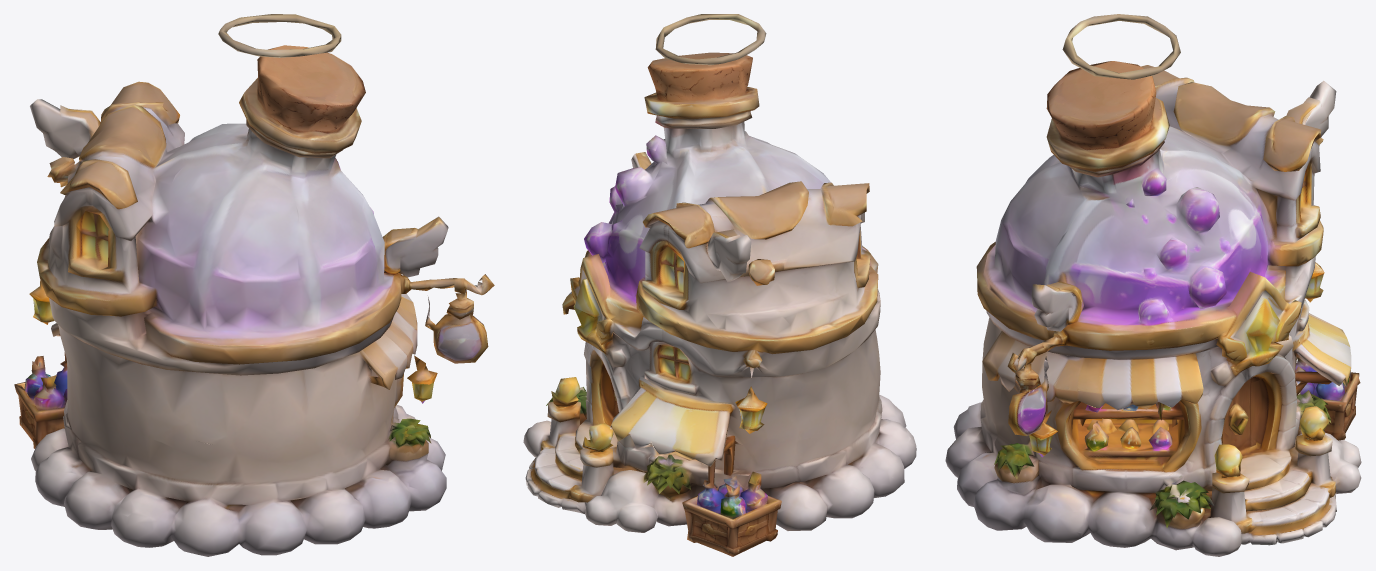
Rendered from Town_Halo_Potion_raw.glb.
3 views of the same model, side by side, from view 1: azimuth 30°, elevation 25°; view 2: azimuth 150°, elevation 25°; view 3: azimuth 270°, elevation 25° (orthographic). The views are drawn at different scales.
Parts seen in each view (by area): view 1: tripo_node_11b9954e-97f3-4d30-9355-dff0144e8e3f; view 2: tripo_node_11b9954e-97f3-4d30-9355-dff0144e8e3f; view 3: tripo_node_11b9954e-97f3-4d30-9355-dff0144e8e3f.
Part boxes in pixels (<box>): tripo_node_11b9954e-97f3-4d30-9355-dff0144e8e3f: <box>14,14,494,556</box>; tripo_node_11b9954e-97f3-4d30-9355-dff0144e8e3f: <box>523,14,916,556</box>; tripo_node_11b9954e-97f3-4d30-9355-dff0144e8e3f: <box>945,14,1361,556</box>.
Bounding box in the file's own units: 0.8447 × 1 × 0.8383.
Materials: 1 (1 with a texture image).
